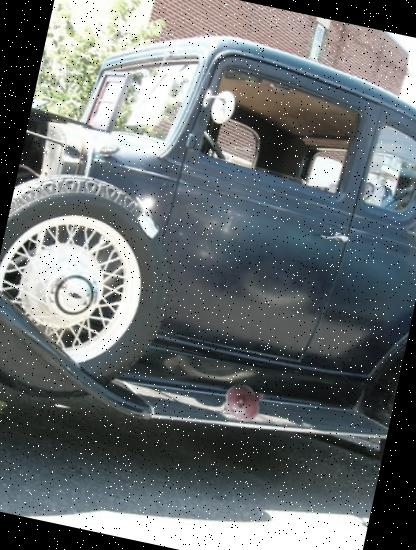Onion: (205, 371, 271, 437)
